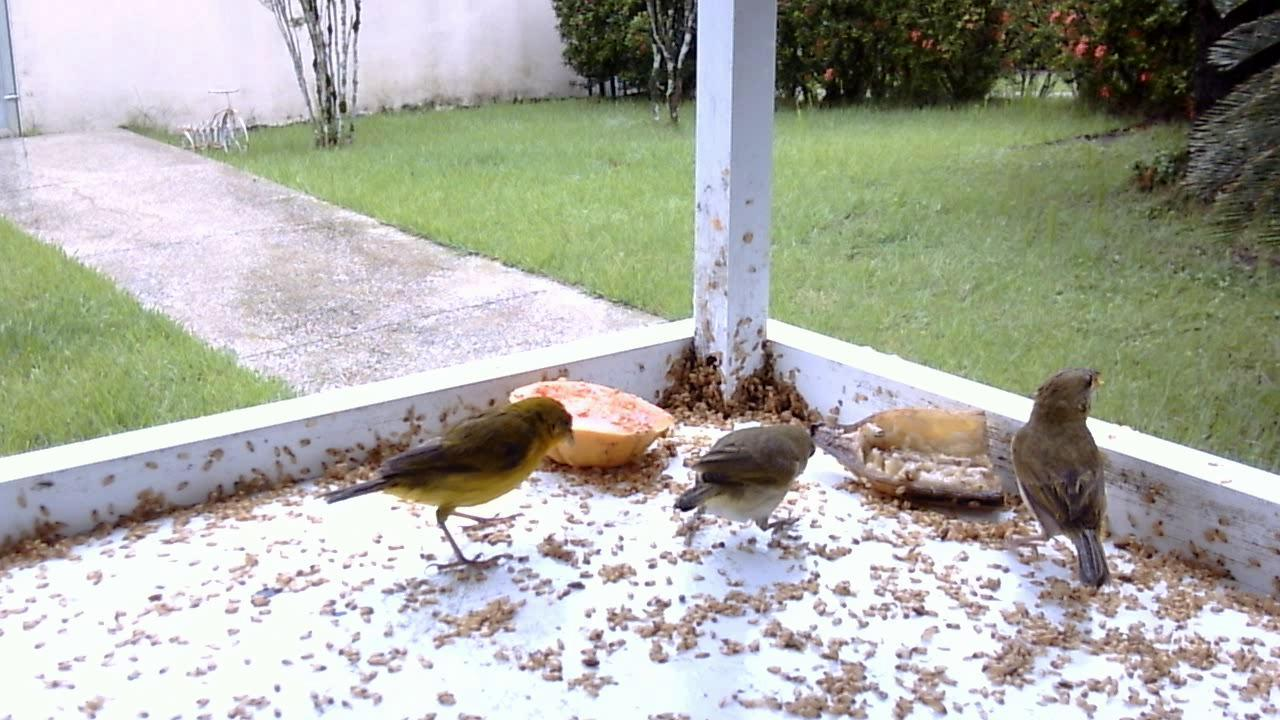canario_do_amazonas: (316, 385, 584, 584), (997, 368, 1122, 593), (668, 412, 826, 552)
